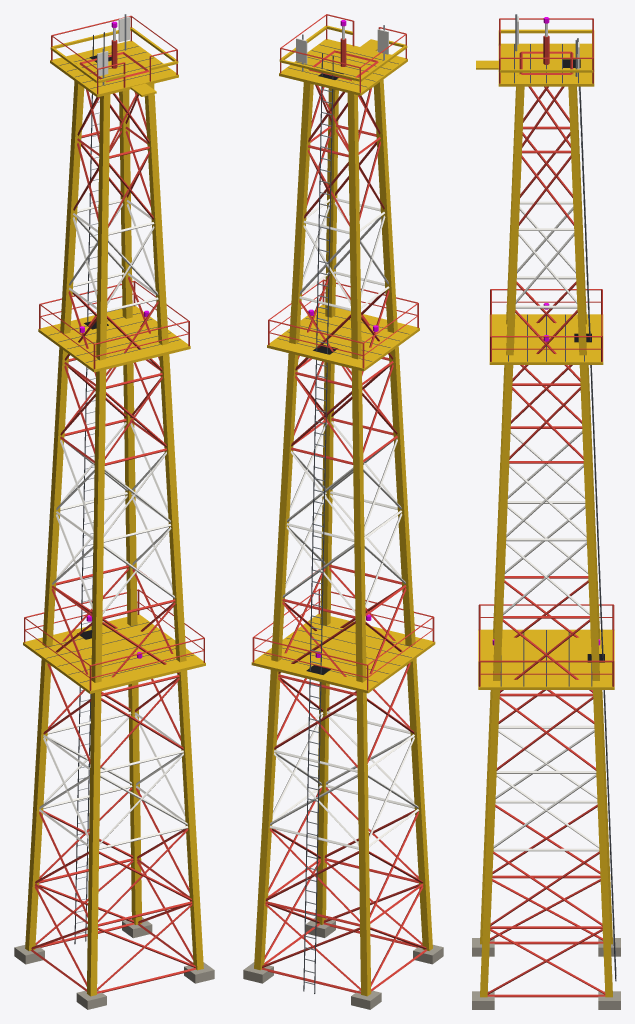
The model's file is lm_radio_tower.glb.
The picture shows the model from 3 angles, left to right: view 1: azimuth 30°, elevation 25°; view 2: azimuth 150°, elevation 25°; view 3: azimuth 270°, elevation 25°; orthographic projection.
Parts seen in each view (by area): view 1: lm_radio_tower__col, lm_radio_tower__shell; view 2: lm_radio_tower__col, lm_radio_tower__shell; view 3: lm_radio_tower__col, lm_radio_tower__shell.
Part boxes in pixels (<box>): lm_radio_tower__col: <box>23,27,205,996</box>; lm_radio_tower__shell: <box>14,14,214,1009</box>; lm_radio_tower__col: <box>251,25,435,996</box>; lm_radio_tower__shell: <box>243,14,443,1009</box>; lm_radio_tower__col: <box>476,29,614,997</box>; lm_radio_tower__shell: <box>472,14,620,1009</box>.
Size of the model in its own units: 5.9 by 42.01 by 5.9.
1 material, 1 textured.
